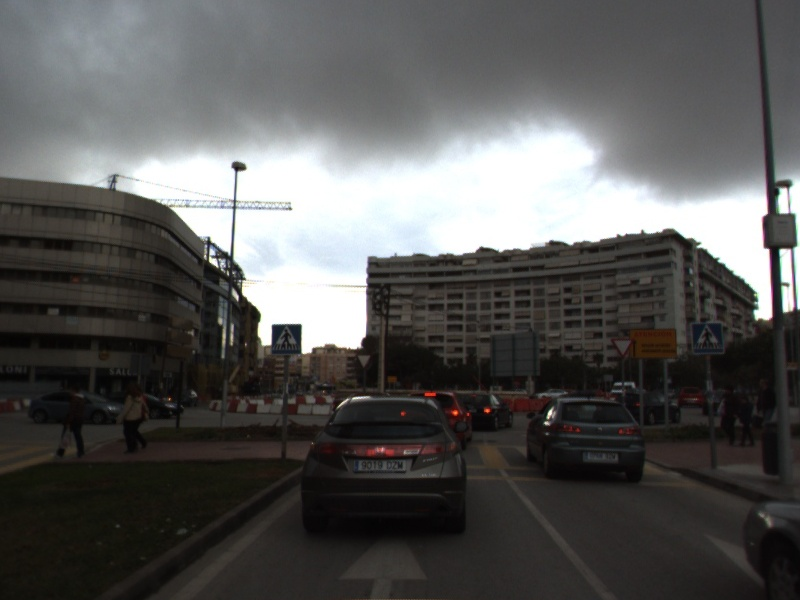STRAIGHT: (333, 527, 433, 600)
